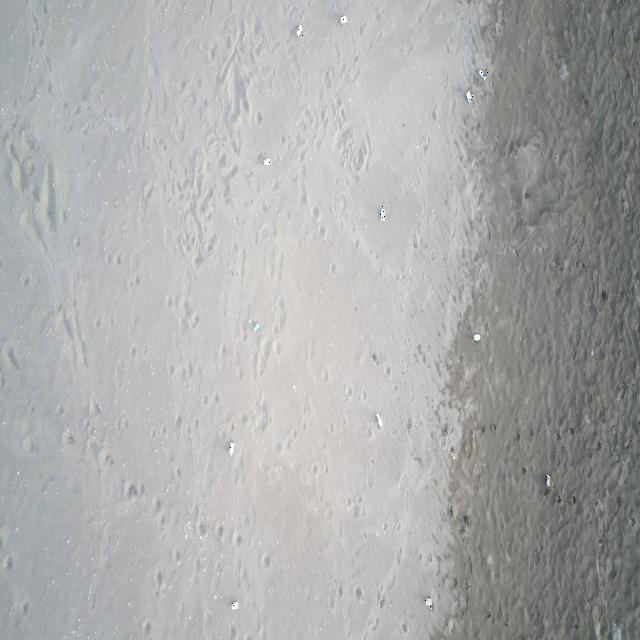Garbage: (477, 67, 487, 79), (375, 412, 382, 427), (464, 89, 472, 101), (252, 320, 260, 332), (424, 595, 432, 607), (544, 473, 550, 487), (472, 332, 480, 342), (296, 24, 303, 35), (379, 205, 384, 220), (228, 442, 233, 455), (263, 156, 271, 164), (340, 15, 347, 24), (231, 600, 238, 608)
